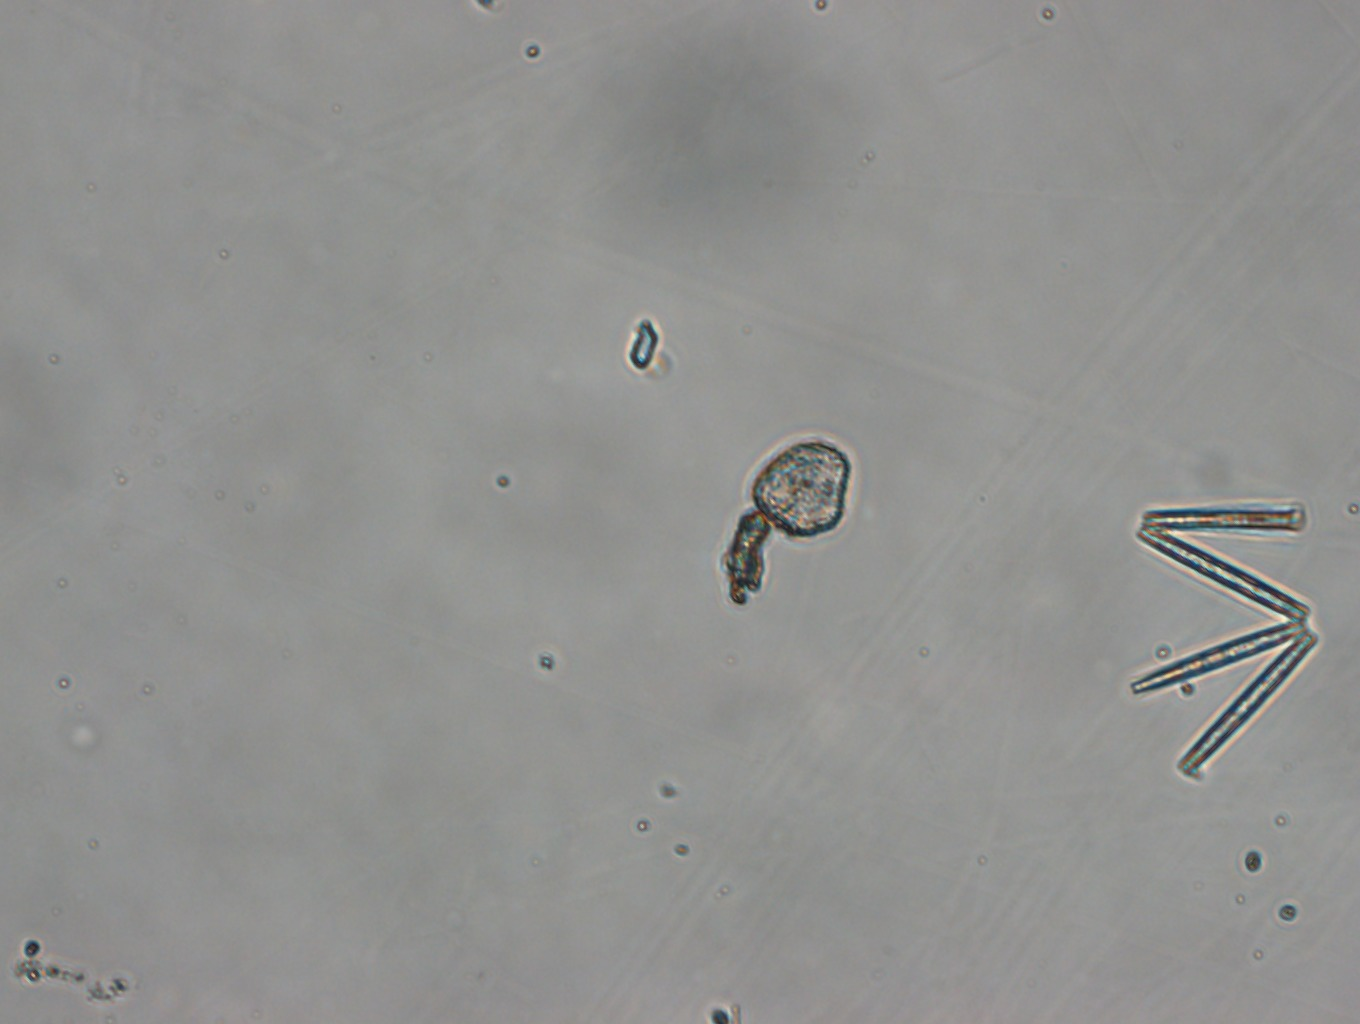thalassionema nitzschioides: (1125, 504, 1325, 785)
